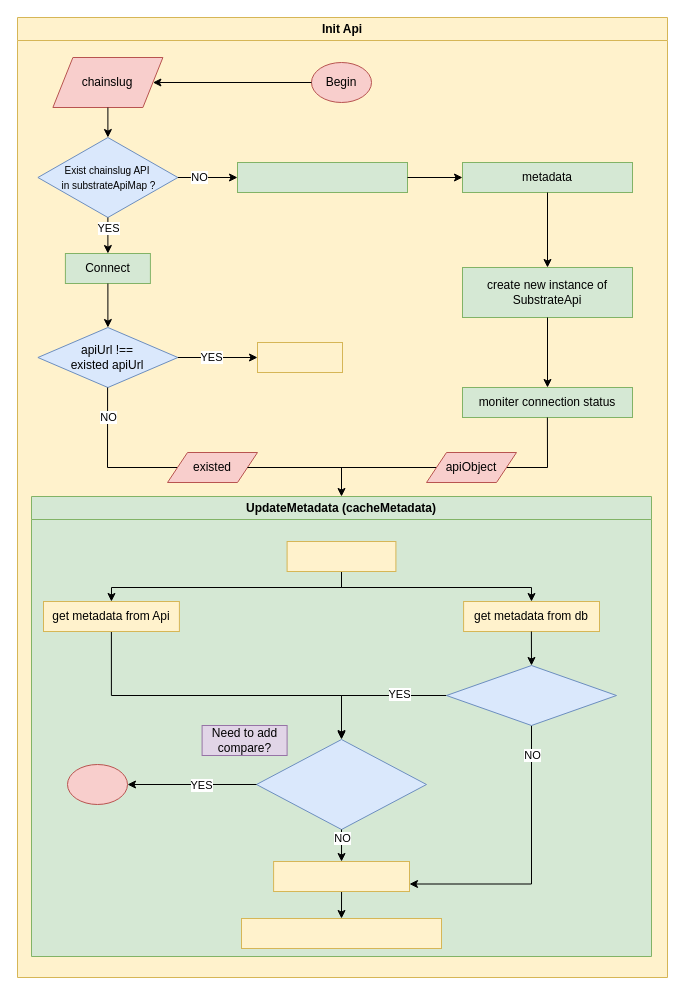
Some shapes in this 685 by 995 pixel diagram are drawn without their labels. The shapes that lost their labels are listed below. From the top down, each one's centre as x and y in pixels, then its label:
At pixel 322 177: "this.parent?.getMetadata".
At pixel 299 357: "updateApiUrl".
At pixel 341 556: "substrateApi ready".
At pixel 531 695: "Check exists metadata".
At pixel 97 784: "End".
At pixel 341 784: "Compare (specVersion, genesisHash)".
At pixel 341 876: "get metadataV15".
At pixel 341 933: "chainService?.upsertMetadata".
